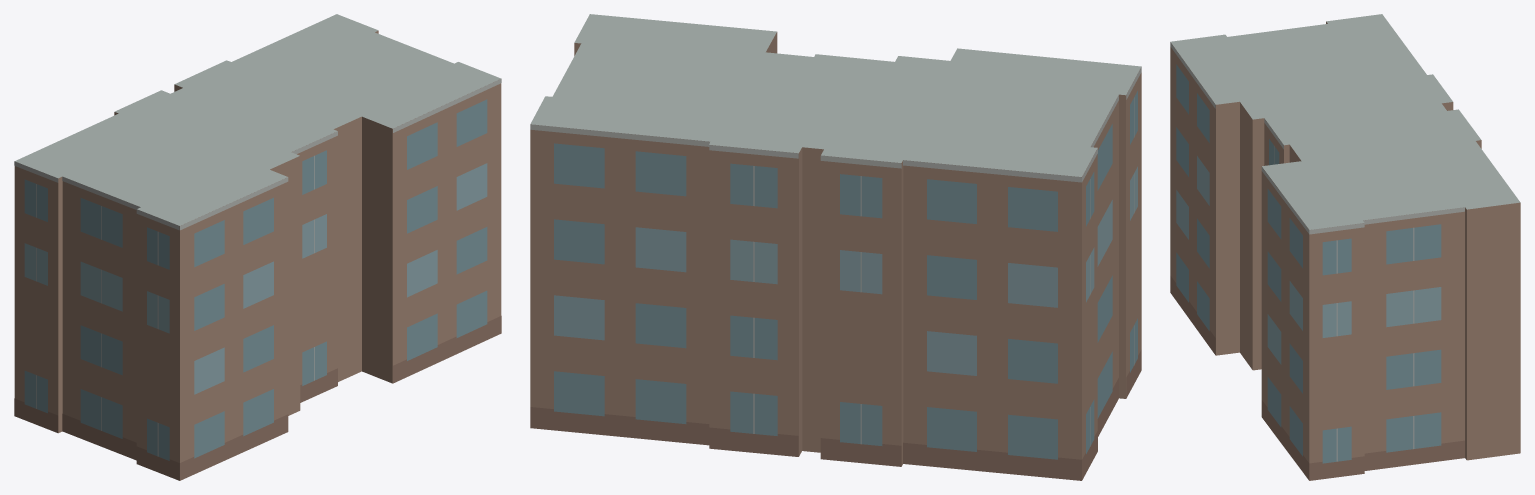
The model's file is survey-upis-32863185.glb.
The picture shows the model from 3 angles, left to right: view 1: azimuth 30°, elevation 25°; view 2: azimuth 150°, elevation 25°; view 3: azimuth 270°, elevation 25°; orthographic projection. The views are drawn at different scales.
Visible parts, largest first — view 1: survey-upis-32863185.tmp; view 2: survey-upis-32863185.tmp; view 3: survey-upis-32863185.tmp.
Boxes of the visible parts, <box> form: survey-upis-32863185.tmp: <box>14,14,501,480</box>; survey-upis-32863185.tmp: <box>530,14,1141,480</box>; survey-upis-32863185.tmp: <box>1170,14,1520,480</box>.
Bounding box in the file's own units: 25.31 × 13.7 × 17.35.
